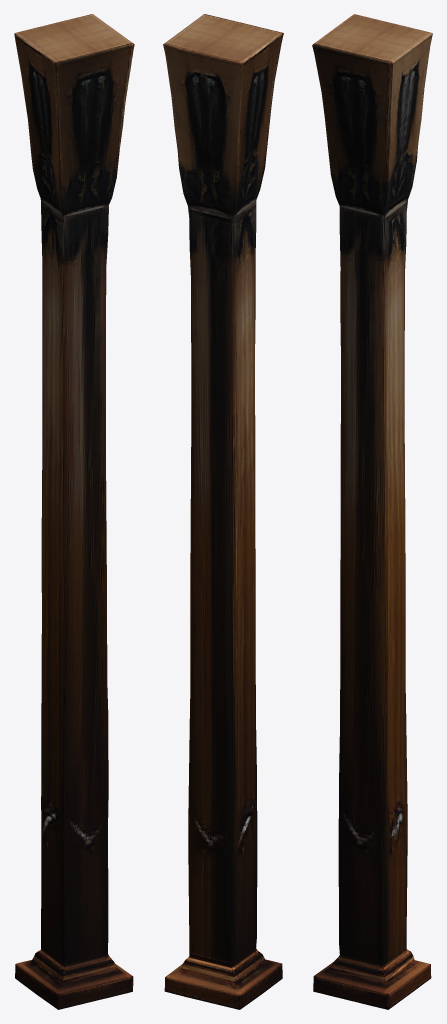
The model's file is wooden-rainstick-art-deco.jpeg.glb.
3 views of the same model, side by side, from view 1: azimuth 30°, elevation 25°; view 2: azimuth 150°, elevation 25°; view 3: azimuth 330°, elevation 25° (orthographic).
Visible parts, largest first — view 1: world; view 2: world; view 3: world.
Part boxes in pixels (<box>): world: <box>14,14,134,1009</box>; world: <box>163,14,283,1009</box>; world: <box>312,14,432,1009</box>.
Bounding box in the file's own units: 0.088 × 1 × 0.0826.
Materials: 1 (1 with a texture image).
